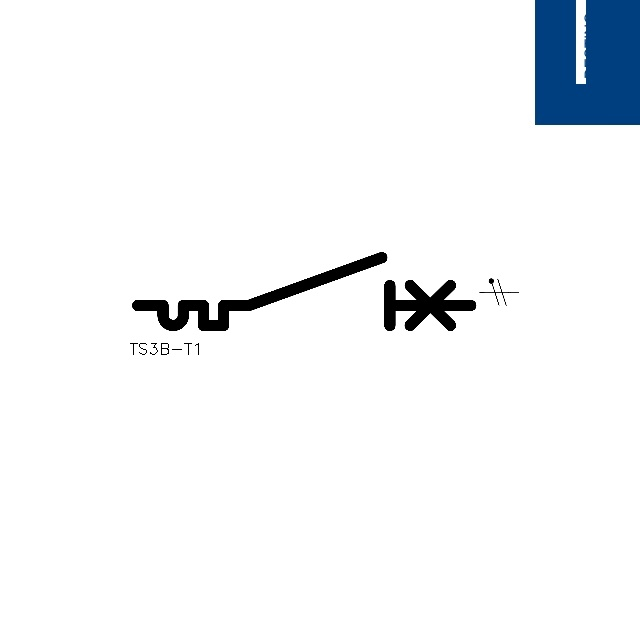interruptor_termomagnetico: (129, 249, 479, 334)
